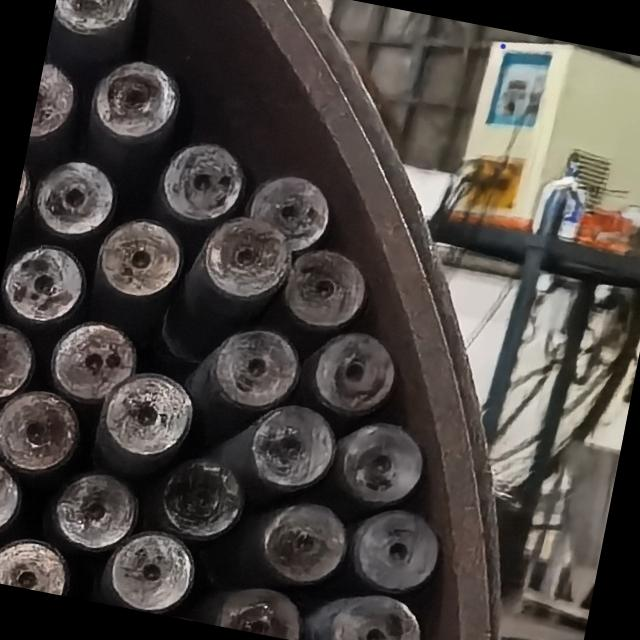tool: (179, 209, 296, 331), (222, 396, 344, 504), (92, 364, 202, 482), (136, 128, 254, 230), (190, 316, 306, 418), (295, 322, 412, 423), (90, 520, 204, 619), (326, 416, 436, 516), (144, 448, 250, 546), (344, 504, 448, 602), (36, 464, 142, 558), (86, 53, 182, 150), (90, 210, 186, 307), (46, 316, 144, 410), (0, 237, 92, 333), (27, 156, 118, 250), (0, 384, 87, 482), (263, 498, 352, 586), (279, 246, 369, 332), (246, 172, 335, 254), (204, 579, 311, 640), (329, 585, 424, 640), (0, 530, 73, 596), (31, 61, 84, 140), (0, 318, 37, 409), (53, 0, 141, 38), (0, 454, 25, 542)
